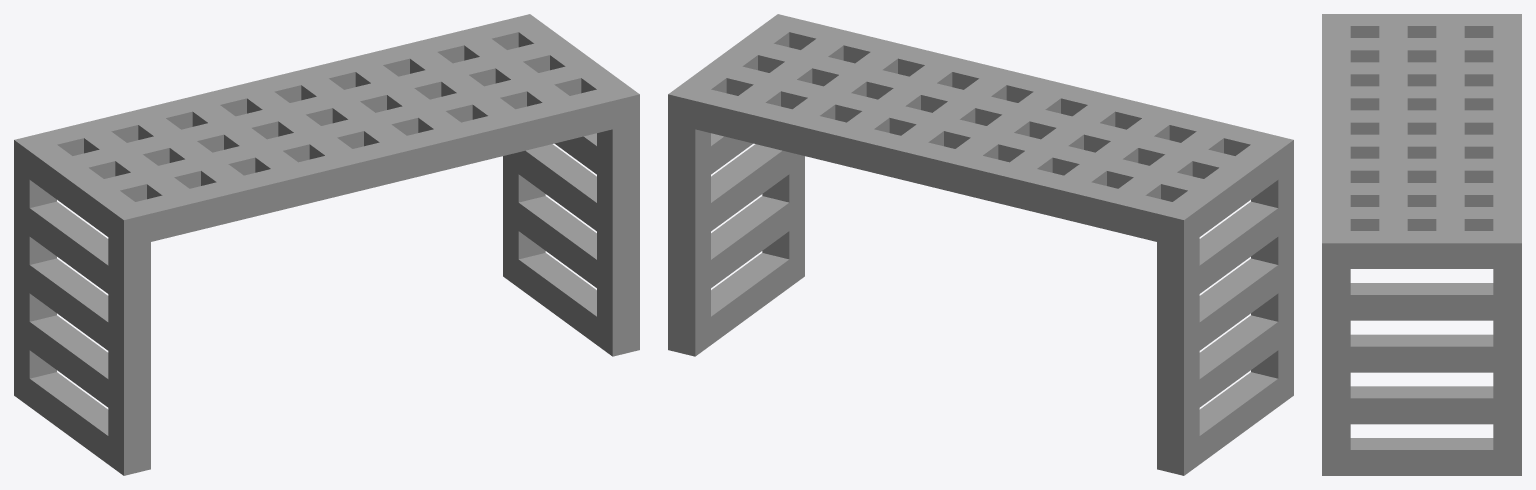
Rendered from Main Hallway Bench.obj.
The picture shows the model from 3 angles, left to right: view 1: azimuth 30°, elevation 25°; view 2: azimuth 150°, elevation 25°; view 3: azimuth 270°, elevation 25°; orthographic projection. The views are drawn at different scales.
Size of the model in its own units: 19 by 9 by 7.
Materials: 1 (1 with a texture image).
